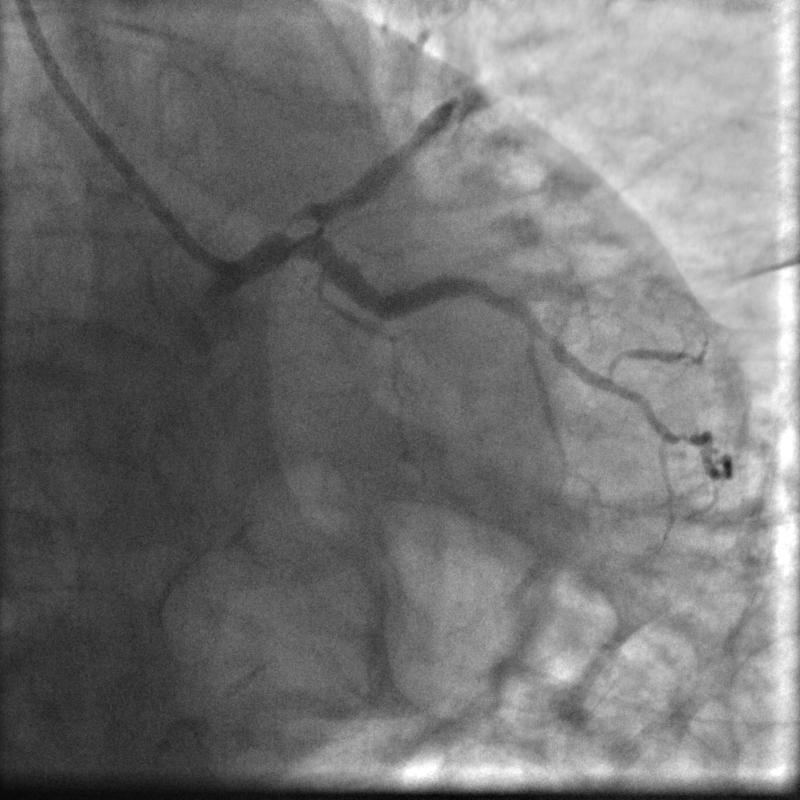Stenosis: (277, 201, 327, 260)
